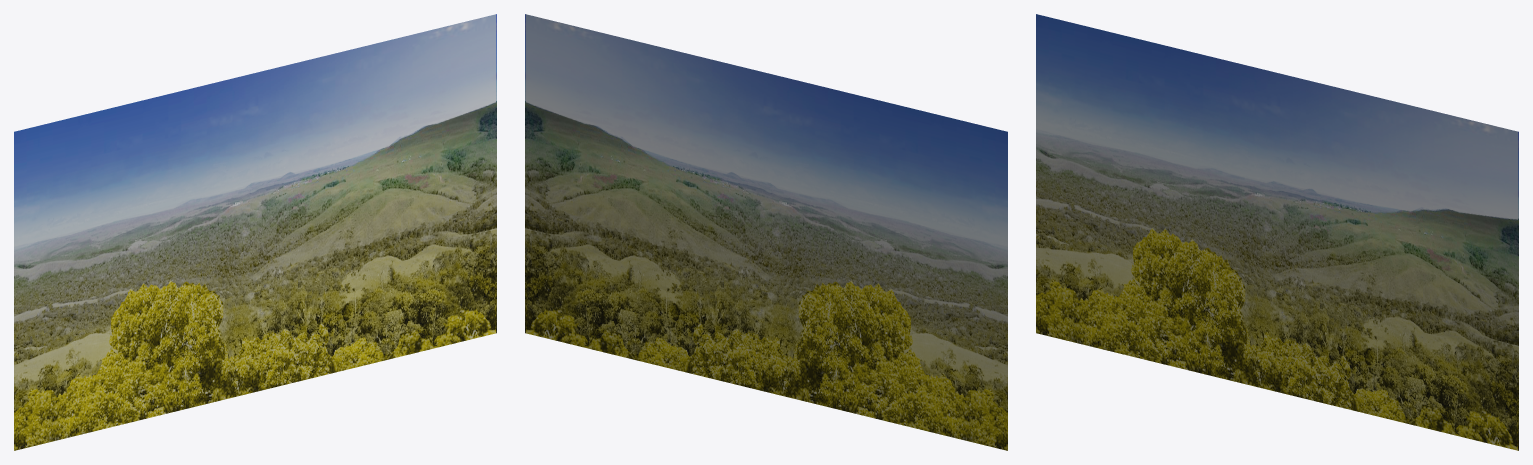
Rendered from B02_background.fbx.
3 views of the same model, side by side, from view 1: azimuth 30°, elevation 25°; view 2: azimuth 150°, elevation 25°; view 3: azimuth 330°, elevation 25° (orthographic).
Parts seen in each view (by area): view 1: B01_water01_model; view 2: B01_water01_model; view 3: B01_water01_model.
Boxes of the visible parts, x1,y1,x2,y2 form: B01_water01_model: (14,14,496,450); B01_water01_model: (525,14,1007,450); B01_water01_model: (1036,14,1518,450).
Size of the model in its own units: 73.22 by 46.23 by 0.
